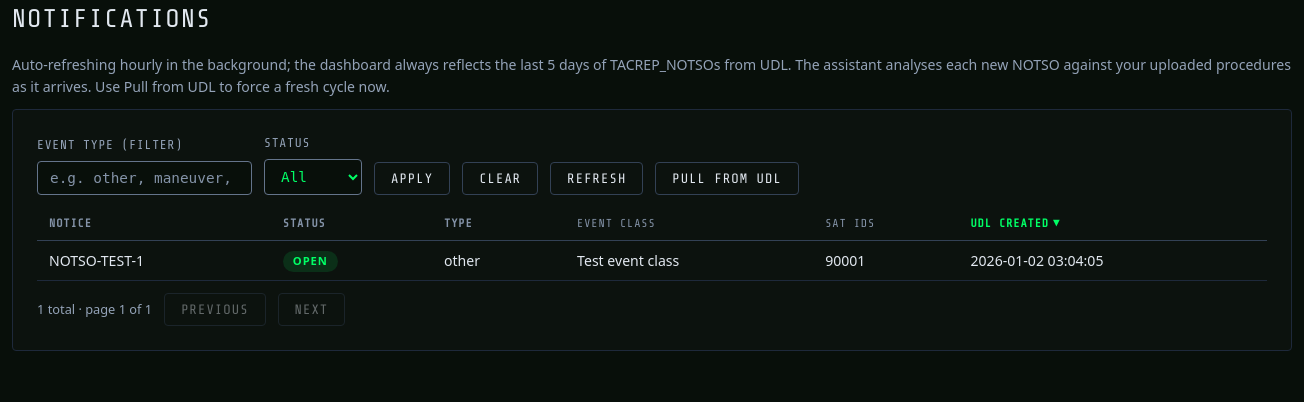
Test: the notifications page › clears every filter, and reloads on Refresh
Later steps or results of the test are not shown.
Expected: the text "Loading..." is not shown
In the field labelled "Event type (filter)": (144, 178) [37,161,252,195], type "launch"
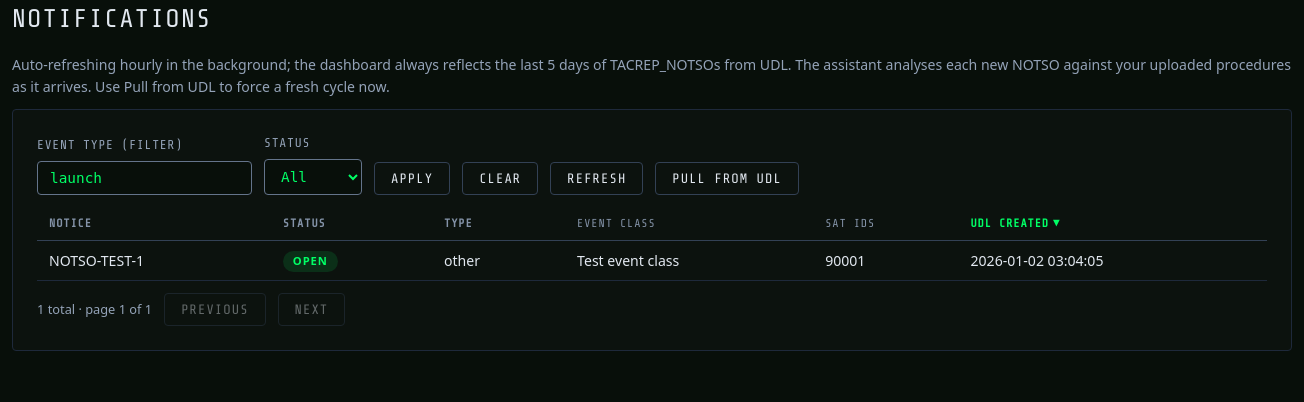
Click the button "Apply": (412, 178) [374,162,450,195]
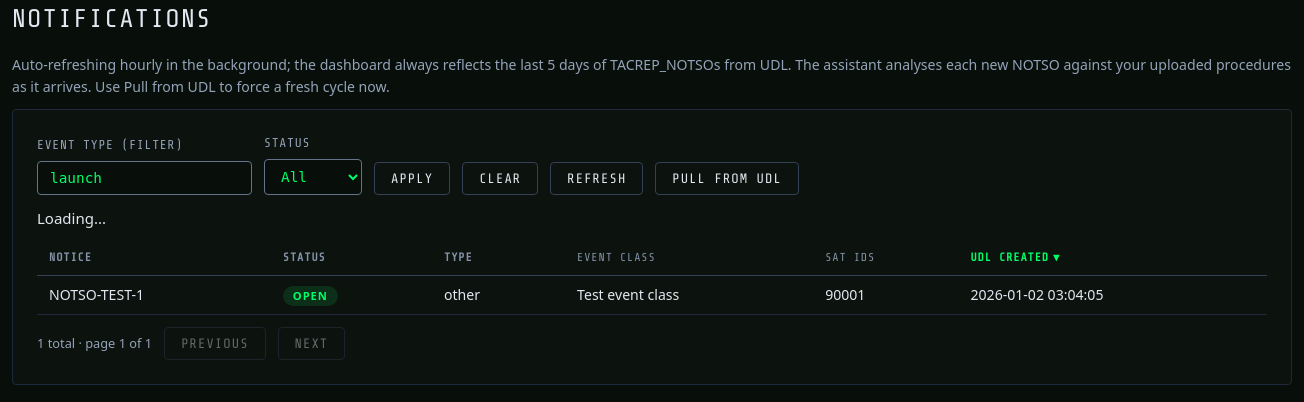
Select "OPEN" in the dropdown labelled "Status": (313, 177) [264,159,362,195]
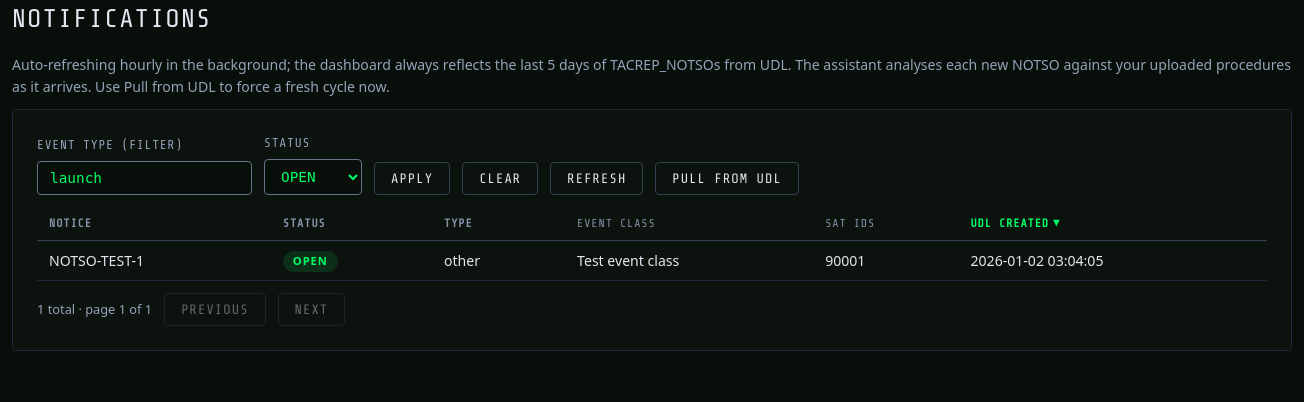
Click the button "Clear": (500, 178) [462,162,538,195]
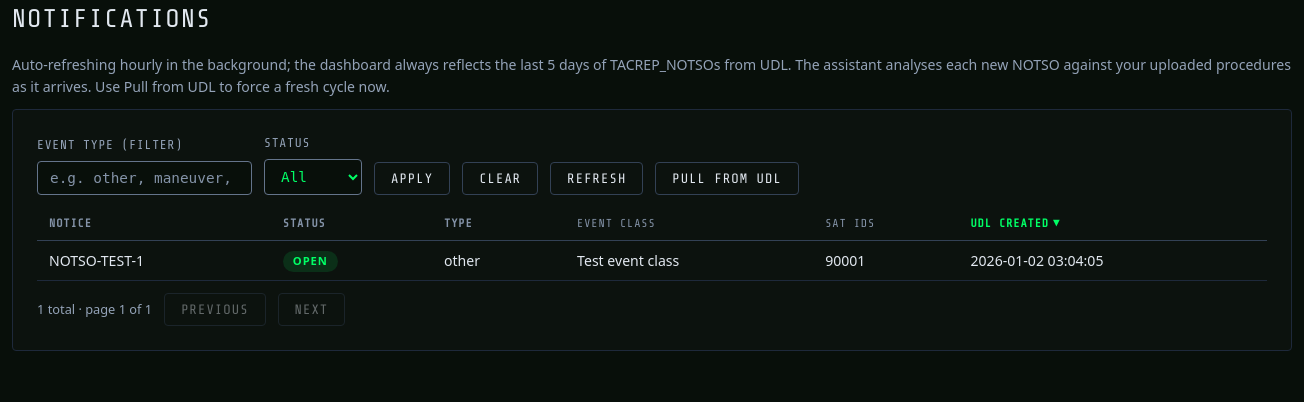
Expected: the field labelled "Event type (filter)" is empty, [37,161,252,195]
